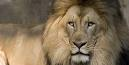lion: (2, 6, 120, 65)
